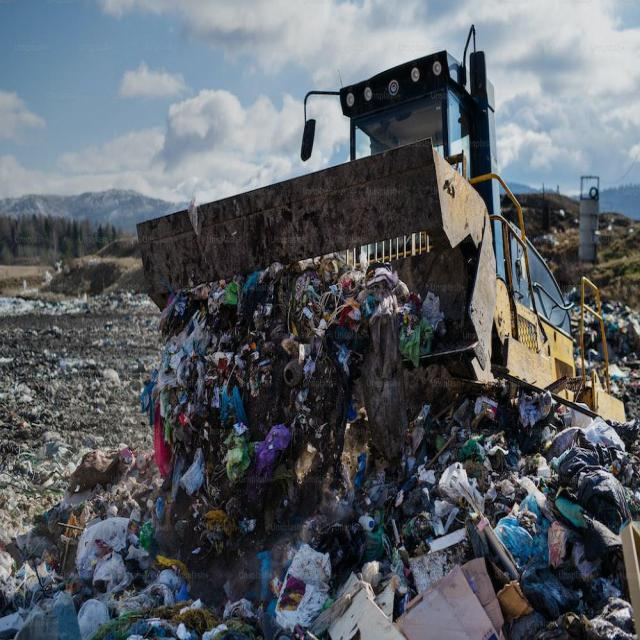trash: (154, 311, 435, 495), (10, 327, 152, 638), (221, 517, 583, 630)
